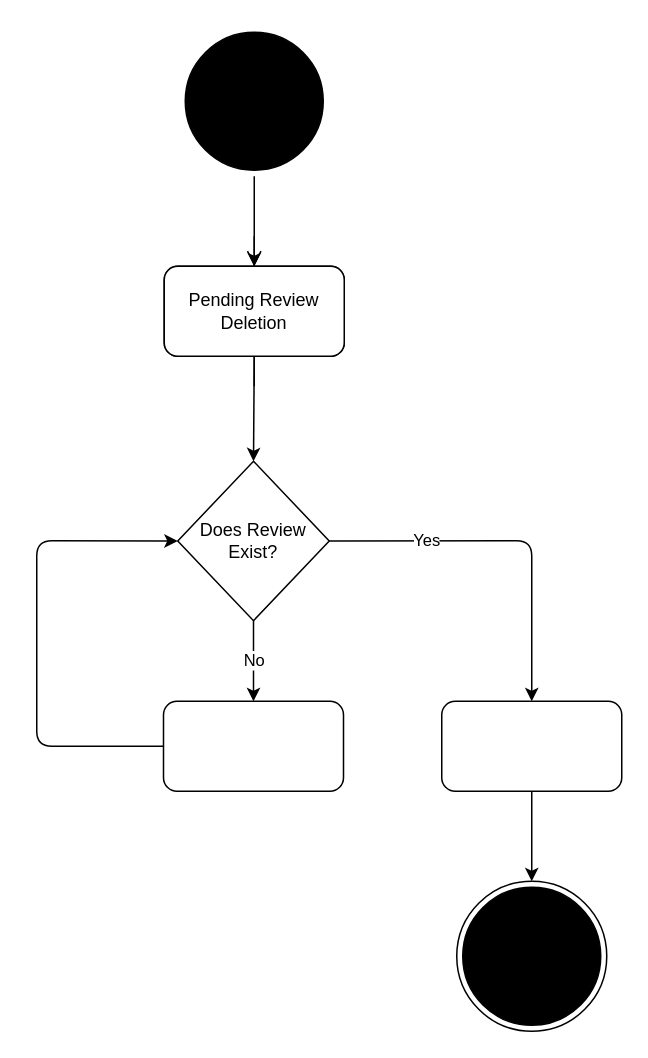
Image size: 648x1058. Some labels were removed from this diagram. The shapes that lost their labels are listed below. From the top down, each one's centre as x and y in pixels, then its label:
At (x=253, y=745): "Check Review Details Again".
At (x=531, y=745): "Delete Review".
